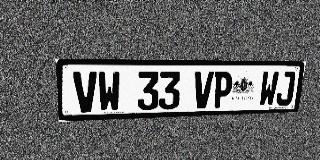3: (138, 71, 159, 111), (159, 71, 180, 110)
J: (275, 71, 296, 106)
P: (212, 71, 233, 108)
V: (73, 71, 98, 113), (193, 71, 214, 109)
W: (97, 71, 120, 112), (258, 71, 279, 106)
